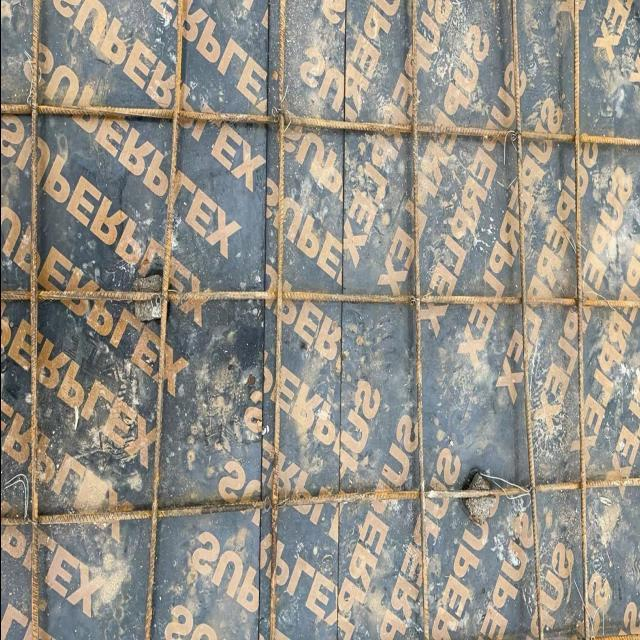ribbed bar: (1, 474, 640, 529), (1, 100, 640, 151), (145, 2, 185, 640), (509, 2, 545, 640), (1, 290, 640, 310), (410, 2, 430, 640), (571, 2, 589, 640), (268, 2, 286, 640), (30, 2, 40, 640)
